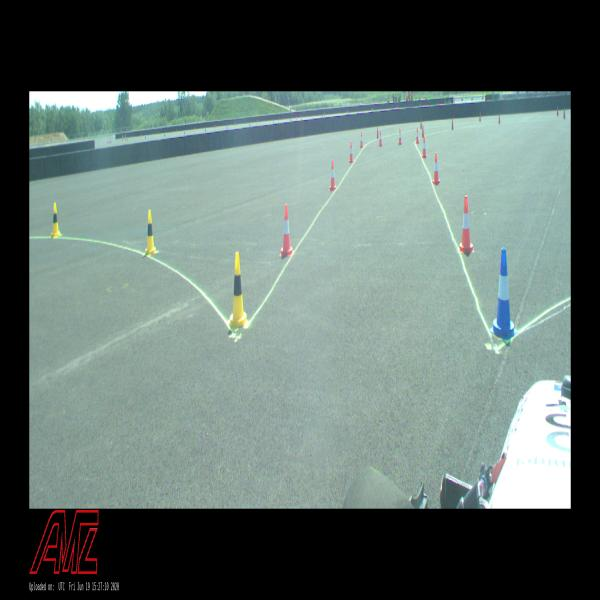blue_cone: (490, 248, 518, 340)
orange_cone: (460, 196, 474, 253), (280, 205, 293, 256), (329, 160, 337, 190), (433, 152, 440, 184), (422, 136, 427, 158), (349, 142, 354, 162), (398, 128, 402, 145), (360, 132, 364, 147), (416, 127, 419, 144), (379, 131, 382, 146)
unknown_cone: (451, 118, 454, 130), (498, 113, 501, 124), (422, 124, 424, 138), (376, 126, 378, 139), (564, 109, 566, 120), (479, 111, 481, 122), (420, 119, 422, 129), (557, 106, 558, 116)
yellow_cone: (228, 252, 249, 326), (145, 210, 157, 256), (51, 203, 61, 237)
